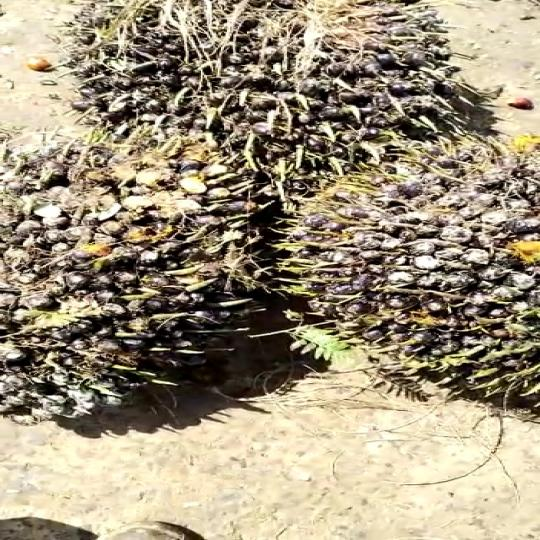mentah: (63, 0, 488, 222), (276, 122, 540, 426), (0, 134, 268, 418)
